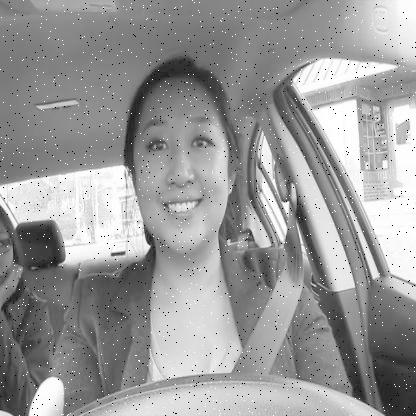seatbelt: (108, 48, 301, 416)
